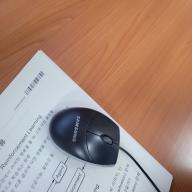mouse: (41, 88, 131, 178)
